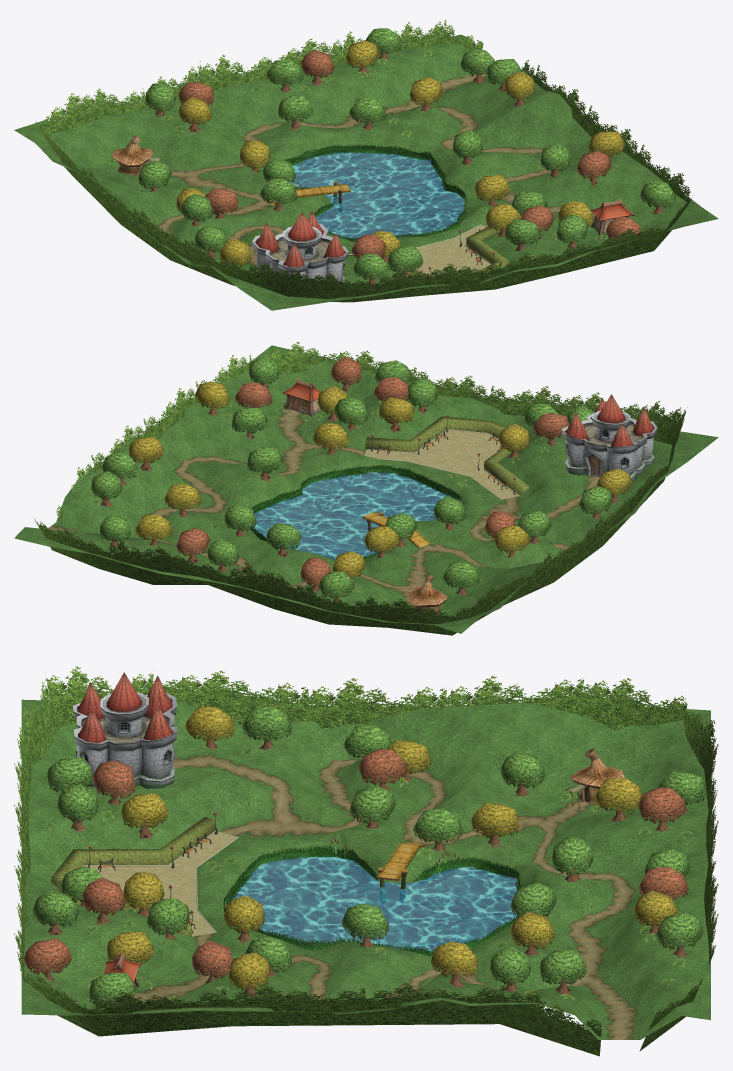
The model's file is level-01.FBX.
3 views of the same model, one above another, from view 1: azimuth 30°, elevation 25°; view 2: azimuth 150°, elevation 25°; view 3: azimuth 270°, elevation 25° (orthographic). The views are drawn at different scales.
Parts seen in each view (by area): view 1: Plane03, Object01, Cylinder05, Object02, Cylinder01, Shape02, Object04, Box15, Sphere31, Sphere22, Sphere25, Sphere06 (+34 smaller); view 2: Plane03, Object01, Cylinder05, Shape02, Object02, Box15, Cylinder01, Sphere05, Sphere24, Sphere21, Sphere40, Sphere29 (+34 smaller); view 3: Plane03, Object01, Cylinder05, Object02, Shape02, Cylinder01, Sphere35, Sphere30, Sphere09, Sphere29, Sphere27, Sphere15 (+35 smaller).
Boxes of the visible parts, x1,y1,x2,y2 form: Plane03: [14, 34, 718, 310]; Object01: [35, 20, 691, 302]; Cylinder05: [252, 210, 348, 285]; Object02: [284, 144, 466, 241]; Cylinder01: [112, 135, 160, 176]; Shape02: [348, 225, 510, 277]; Object04: [290, 145, 460, 236]; Box15: [590, 199, 634, 235]; Sphere31: [259, 178, 297, 205]; Sphere22: [266, 59, 303, 86]; Sphere25: [348, 97, 386, 124]; Sphere06: [475, 175, 510, 201]; Plane03: [14, 345, 718, 633]; Object01: [33, 342, 687, 635]; Cylinder05: [561, 394, 657, 481]; Shape02: [365, 416, 528, 495]; Object02: [250, 465, 461, 559]; Box15: [282, 378, 324, 417]; Cylinder01: [407, 575, 447, 615]; Sphere05: [231, 407, 267, 433]; Sphere24: [164, 483, 201, 510]; Sphere21: [135, 514, 172, 541]; Sphere40: [442, 562, 479, 589]; Sphere29: [364, 526, 399, 553]; Plane03: [21, 699, 710, 1039]; Object01: [14, 666, 718, 1056]; Cylinder05: [73, 672, 177, 788]; Object02: [223, 844, 524, 956]; Shape02: [51, 817, 215, 936]; Cylinder01: [564, 748, 624, 808]; Sphere35: [242, 706, 292, 742]; Sphere30: [413, 808, 463, 844]; Sphere09: [184, 707, 234, 742]; Sphere29: [471, 803, 519, 838]; Sphere27: [638, 787, 685, 823]; Sphere15: [341, 903, 389, 940].
Size of the model in its own units: 109670 by 28672 by 109989.
Materials: 20 (20 with a texture image).
